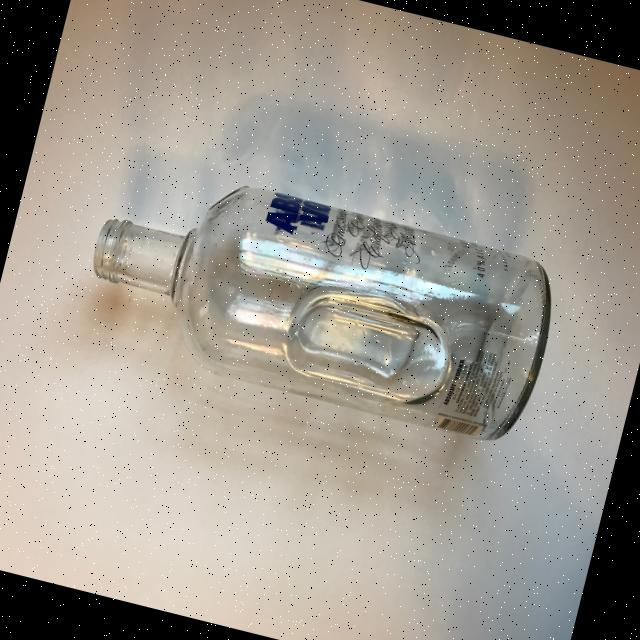glass: (71, 150, 567, 452)
